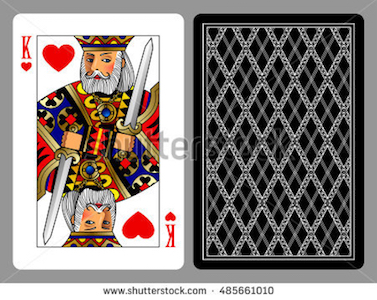KingOfHearts: (9, 9, 186, 276)
